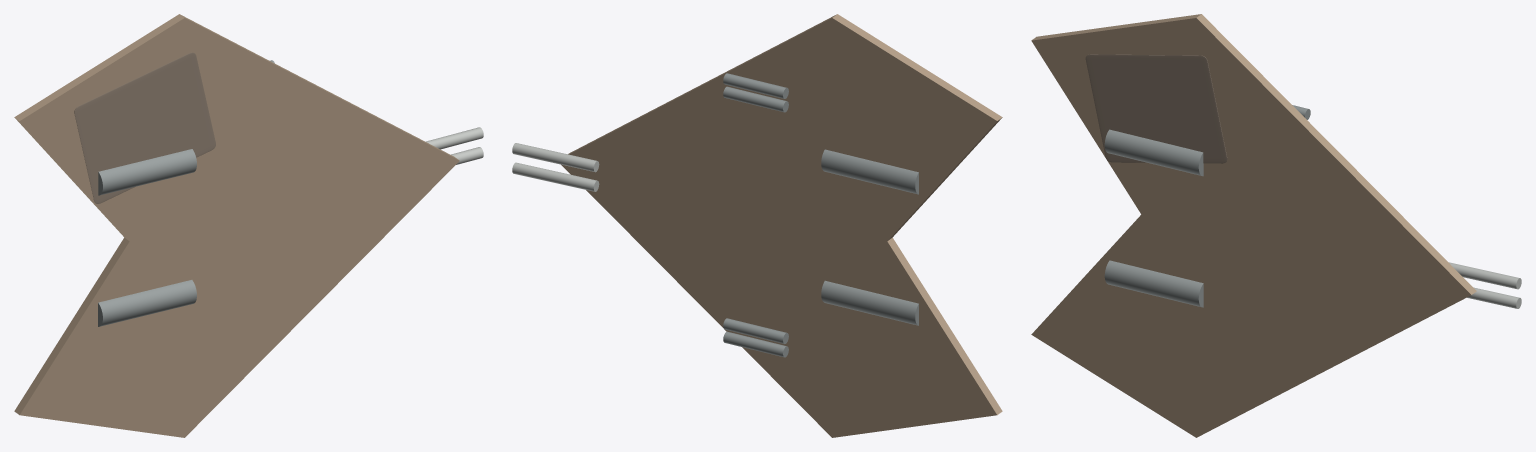
The model's file is d-u29-dominion-stealth-striker-lod2.glb.
3 renders of one model, left to right at view 1: azimuth 30°, elevation 25°; view 2: azimuth 150°, elevation 25°; view 3: azimuth 330°, elevation 25°, orthographic.
Visible parts, largest first — view 1: flying_wing_planform, flying_wing_elevon_1, flying_wing_engine_0, flying_wing_engine_1, flying_wing_gun_barrel_1; view 2: flying_wing_planform, flying_wing_engine_0, flying_wing_engine_1, flying_wing_gun_barrel_1, flying_wing_gun_barrel_0, flying_wing_1_tube_1, flying_wing_-1_tube_2, flying_wing_1_tube_2, flying_wing_-1_tube_1; view 3: flying_wing_planform, flying_wing_elevon_1, flying_wing_engine_0, flying_wing_engine_1, flying_wing_gun_barrel_1, flying_wing_gun_barrel_0.
Part boxes in pixels (bbox=[...]): flying_wing_planform: bbox=[14, 14, 459, 437]; flying_wing_elevon_1: bbox=[74, 52, 215, 203]; flying_wing_engine_0: bbox=[98, 280, 196, 326]; flying_wing_engine_1: bbox=[98, 149, 196, 195]; flying_wing_gun_barrel_1: bbox=[426, 127, 483, 149]; flying_wing_planform: bbox=[561, 14, 1002, 437]; flying_wing_engine_0: bbox=[821, 280, 918, 325]; flying_wing_engine_1: bbox=[821, 149, 918, 194]; flying_wing_gun_barrel_1: bbox=[512, 143, 599, 172]; flying_wing_gun_barrel_0: bbox=[512, 162, 599, 191]; flying_wing_1_tube_1: bbox=[723, 86, 788, 112]; flying_wing_-1_tube_2: bbox=[723, 318, 788, 343]; flying_wing_1_tube_2: bbox=[723, 73, 788, 98]; flying_wing_-1_tube_1: bbox=[723, 331, 788, 357]; flying_wing_planform: bbox=[1031, 14, 1476, 437]; flying_wing_elevon_1: bbox=[1085, 54, 1227, 163]; flying_wing_engine_0: bbox=[1104, 260, 1203, 307]; flying_wing_engine_1: bbox=[1104, 129, 1203, 176]; flying_wing_gun_barrel_1: bbox=[1449, 262, 1521, 289]; flying_wing_gun_barrel_0: bbox=[1467, 287, 1521, 308].
Size of what is drawn, in the model's own units: 15.69 by 13.27 by 1.21.
